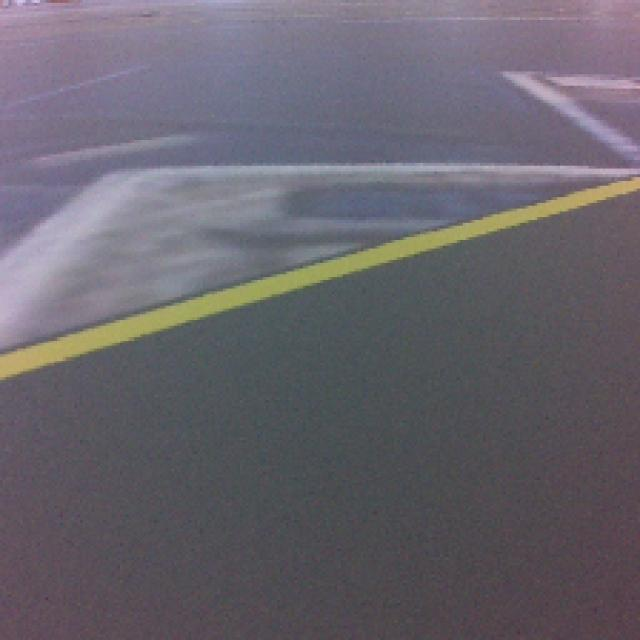Guard rail: (1, 173, 640, 387)
